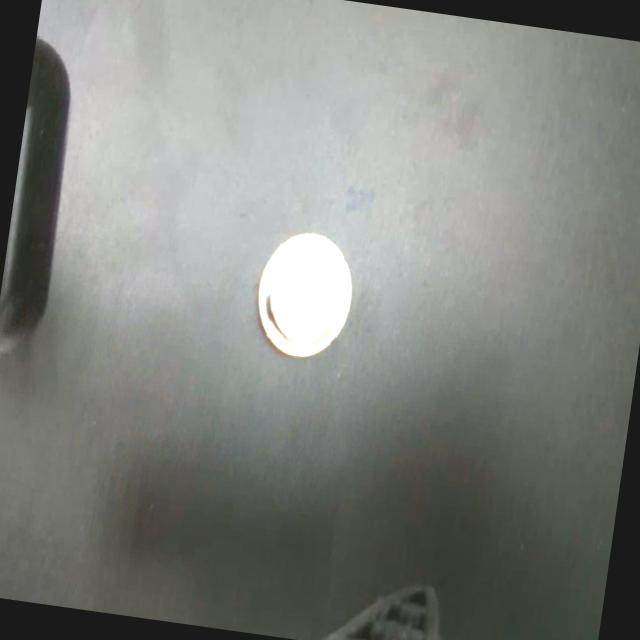sensor: (249, 224, 361, 364)
